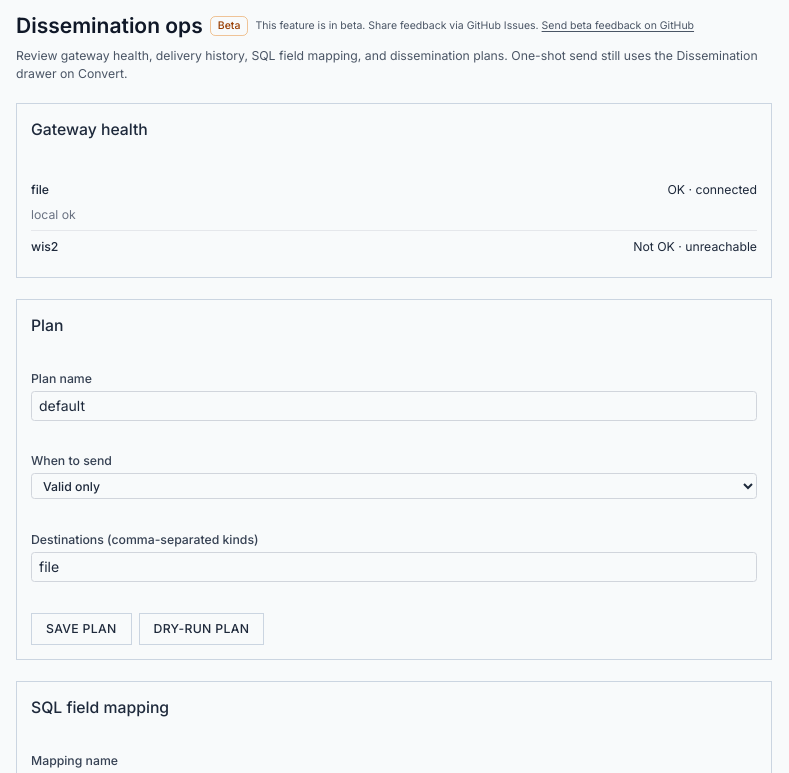
it: DisseminationOpsPage › dry-run with empty receipts still notes completion
This screenshot has width=789, height=773.
Click the button with test id "plan-save" at (81, 629), box [31,613,132,644]
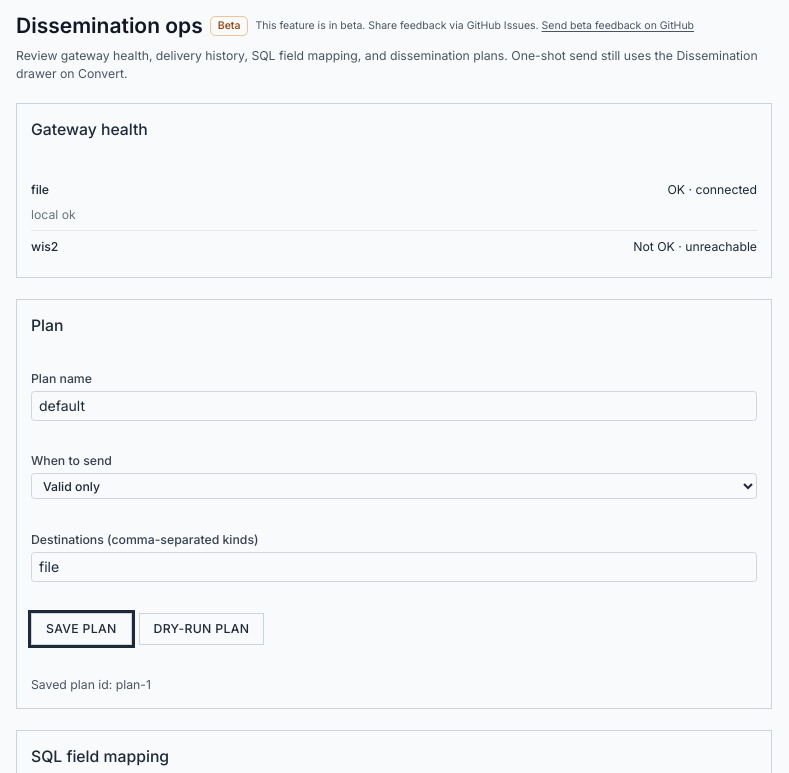
Expected: the text "Saved plan id: plan-1" is shown, [31,677,151,692]
Click the button with test id "plan-dry-run" at (201, 629), box [138,613,264,644]
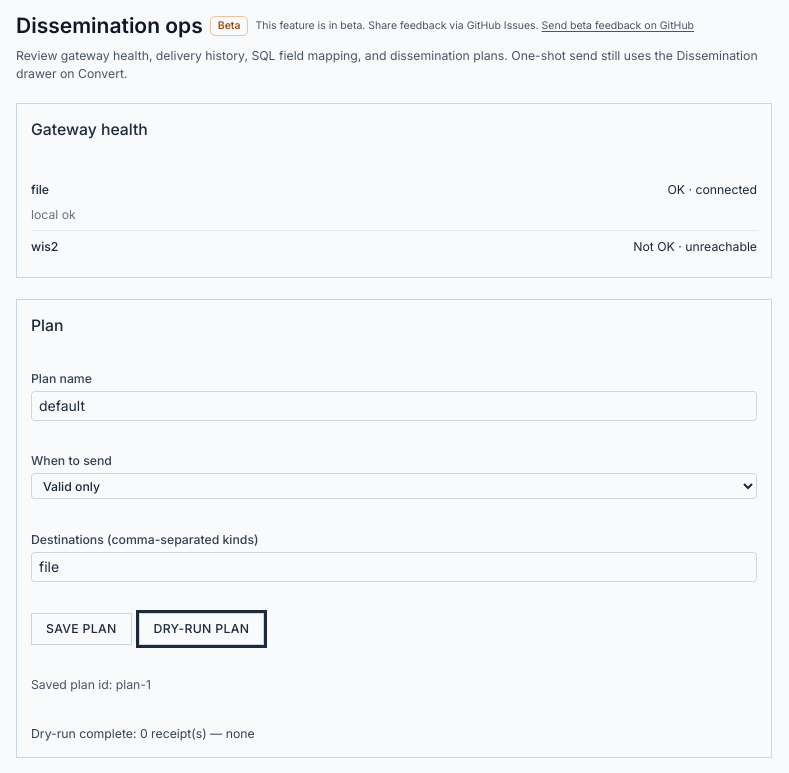
Expected: the text with test id "plan-execute-note" shows "none", [31,726,255,741]
